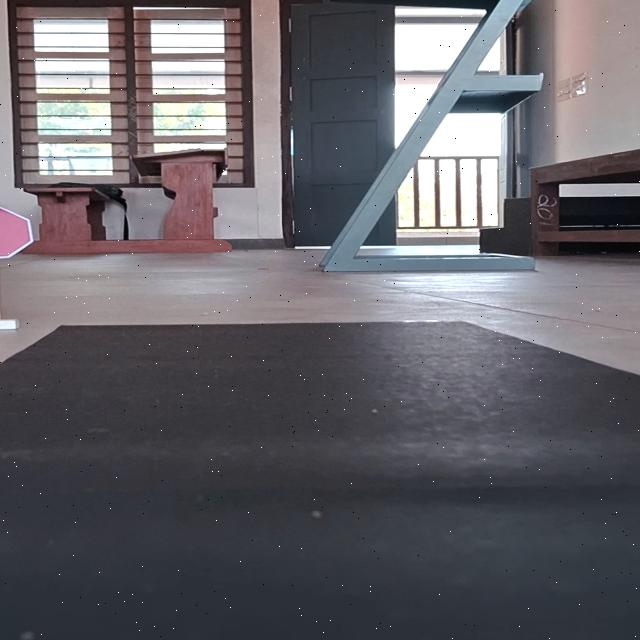Stop: (0, 204, 36, 259)
